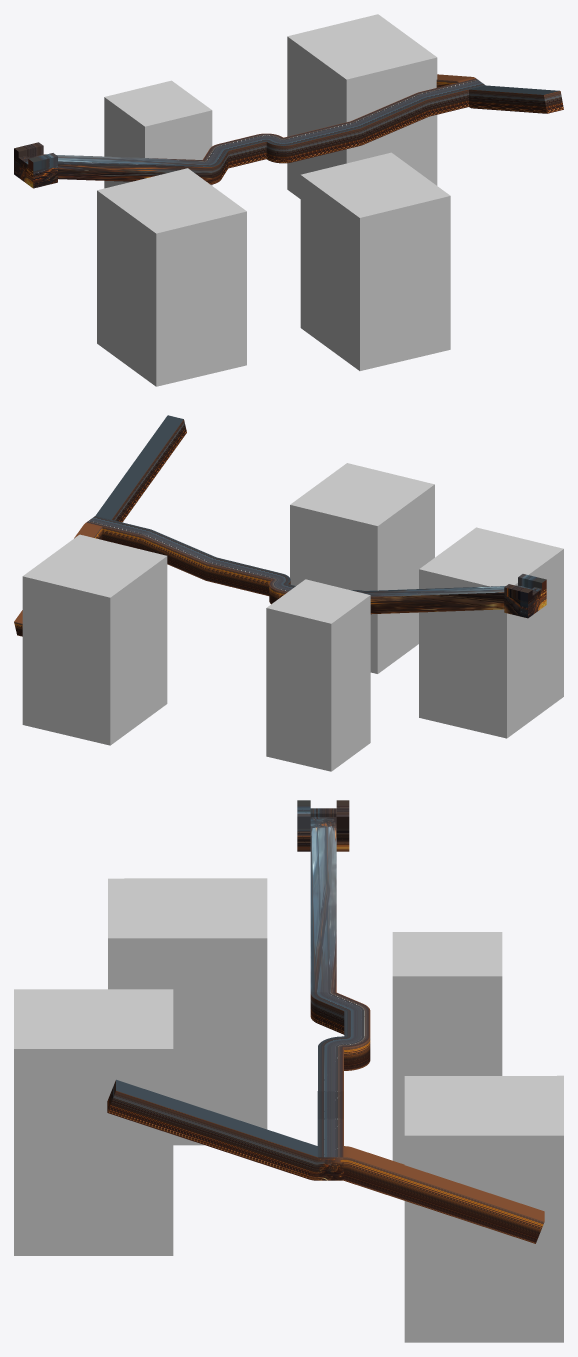
The model's file is hest.glb.
3 views of the same model, one above another, from view 1: azimuth 30°, elevation 25°; view 2: azimuth 150°, elevation 25°; view 3: azimuth 270°, elevation 25° (orthographic). The views are drawn at different scales.
Visible parts, largest first — view 1: platform.001, platform.003, platform.004, platform, platform.002; view 2: platform.004, platform.003, platform.002, platform.001, platform; view 3: platform.001, platform.004, platform.003, platform, platform.002.
Part boxes in pixels (x1,y1,x2,y2): platform.001: (300, 152, 450, 370); platform.003: (97, 168, 246, 386); platform.004: (287, 14, 437, 198); platform: (14, 74, 563, 188); platform.002: (104, 80, 212, 188); platform.004: (22, 534, 167, 745); platform.003: (419, 527, 563, 738); platform.002: (266, 579, 370, 771); platform.001: (290, 463, 434, 673); platform: (14, 415, 546, 636); platform.001: (14, 989, 173, 1255); platform.004: (404, 1075, 563, 1342); platform.003: (108, 878, 267, 1145); platform: (107, 800, 544, 1243); platform.002: (392, 932, 502, 1164).
Size of the model in its own units: 54.96 by 22.27 by 42.28.
Materials: 1 (1 with a texture image).
